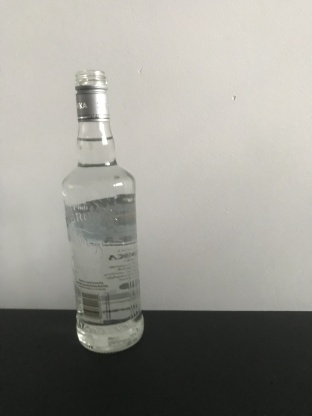nakretka: (73, 67, 111, 122)
